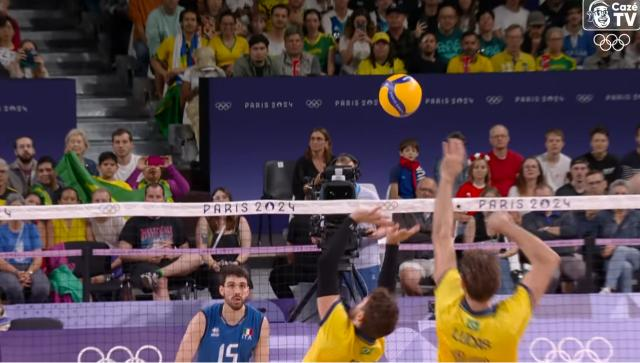Levantador: (299, 206, 417, 363)
bola: (378, 70, 424, 120)
